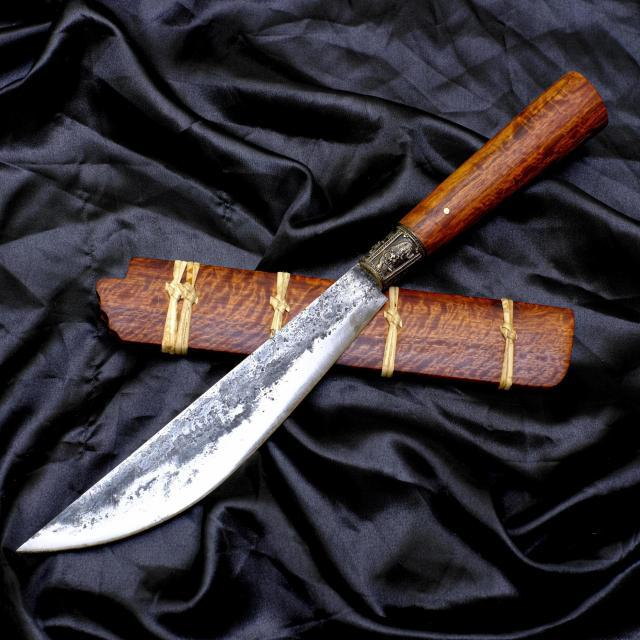short sword: (9, 71, 622, 561)
